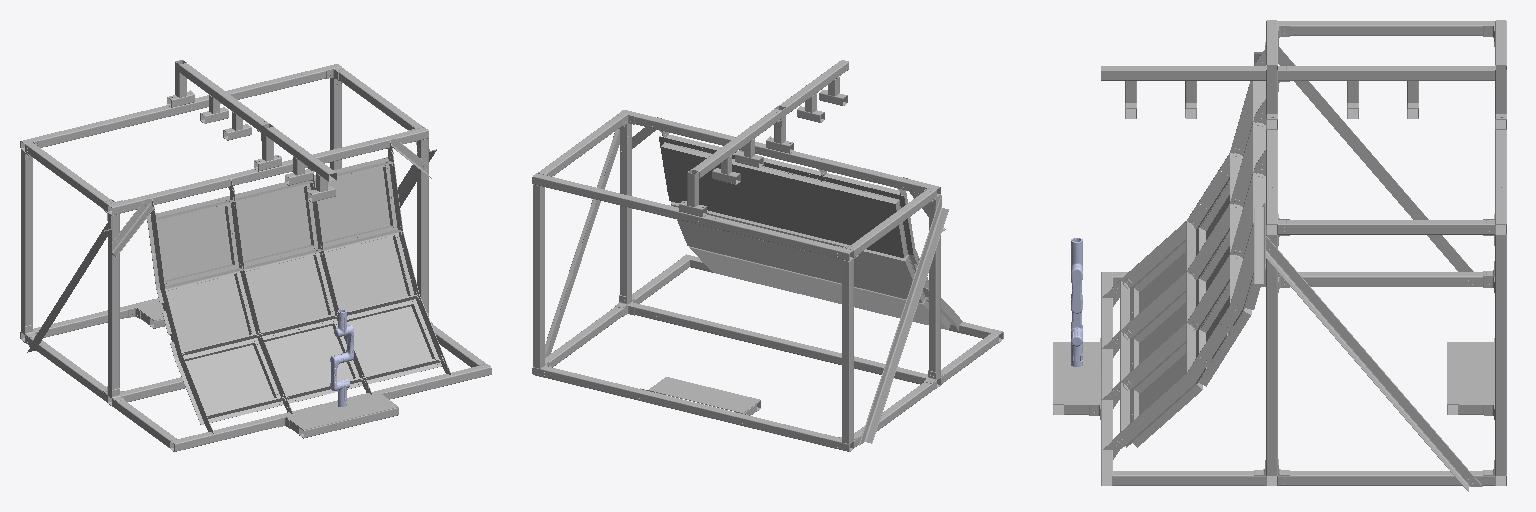
URDF robot description (biped_wj1109):
<?xml version="1.0" encoding="utf-8" ?>
<!-- This URDF was automatically created by SolidWorks to URDF Exporter! Originally created by [author] ([email redacted]) 
     Commit Version: 1.6.0-1-g15f4949  Build Version: 1.6.7594.29634
     For more information, please see http://wiki.ros.org/sw_urdf_exporter -->
<robot name="biped_wj1109">
<!--<link name="world"/> -->
    <link name="dummy">
    </link>
    <link name="base_link">
        
<inertial>
            <origin xyz="-0.00010023 -0.025972 0.049495" rpy="0 0 0" />
            <mass value="1.2781" />
            <inertia ixx="0.0021243" ixy="4.4949E-08" ixz="2.4819E-07" iyy="0.0018554" iyz="0.00018522" izz="0.0031699" />
        </inertial>

        <visual>
            <origin xyz="0 0 0" rpy="0 0 0" />
            <geometry>
                <mesh filename="package://biped_wj1109/meshes/base_link.STL" />
            </geometry>
            <material name="">
                <color rgba="0.75294 0.75294 0.75294 1" />
            </material>
        </visual>
        <collision>
            <origin xyz="0 0 0" rpy="0 0 0" />
            <geometry>
                <mesh filename="package://biped_wj1109/meshes/base_link.STL" />
            </geometry>
        </collision>
    </link>
<gazebo reference="base_link">
        <material>Gazebo/SkyBlue</material>
        <mu1>10</mu1>
        <mu2>10</mu2>
    </gazebo>
    <joint name="dummyjoint" type="fixed">
 		 <parent link="dummy"/>
		 <child link="base_link"/> 
    </joint>
<!--<joint name="fixed" type="fixed">
 		 <parent link="world"/>
		 <child link="base_link"/> 
    </joint> -->
    <link name="A_Link">
        
<inertial>
            <origin xyz="-0.010548 4.7142E-07 0.15036" rpy="0 0 0" />
            <mass value="1.0737" />
            <inertia ixx="0.010166" ixy="-6.3111E-08" ixz="0.0012596" iyy="0.0097797" iyz="-3.9503E-09" izz="0.0020744" />
        </inertial>

        <visual>
            <origin xyz="0 0 0" rpy="0 0 0" />
            <geometry>
                <mesh filename="package://biped_wj1109/meshes/A_Link.STL" />
            </geometry>
            <material name="">
                <color rgba="0.79216 0.81961 0.93333 1" />
            </material>
        </visual>
        <collision>
            <origin xyz="0 0 0" rpy="0 0 0" />
            <geometry>
                <mesh filename="package://biped_wj1109/meshes/A_Link.STL" />
            </geometry>
        </collision>
    </link>
    <joint name="A" type="revolute">
        <origin xyz="0 0 0.075" rpy="0 0 0" />
        <parent link="base_link" />
        <child link="A_Link" />
        <axis xyz="0 0 1" />
        <limit lower="-3.14" upper="3.14" effort="500" velocity="1" />
    </joint>
    <link name="B_Link">
        
<inertial>
            <origin xyz="3.8351E-06 -0.18523 0.010297" rpy="0 0 0" />
            <mass value="1.407" />
            <inertia ixx="0.025564" ixy="3.7004E-08" ixz="-9.8684E-10" iyy="0.002185" iyz="-0.0022725" izz="0.026056" />
        </inertial>

        <visual>
            <origin xyz="0 0 0" rpy="0 0 0" />
            <geometry>
                <mesh filename="package://biped_wj1109/meshes/B_Link.STL" />
            </geometry>
            <material name="">
                <color rgba="0.79216 0.81961 0.93333 1" />
            </material>
        </visual>
        <collision>
            <origin xyz="0 0 0" rpy="0 0 0" />
            <geometry>
                <mesh filename="package://biped_wj1109/meshes/B_Link.STL" />
            </geometry>
        </collision>
    </link>
    <joint name="B" type="revolute">
        <origin xyz="-0.068 0 0.25" rpy="-1.5708 0 1.5708" />
        <parent link="A_Link" />
        <child link="B_Link" />
        <axis xyz="0 0 -1" />
        <limit lower="-2.35" upper="2.35" effort="500" velocity="1" />
    </joint>
    <link name="C_Link">
        
<inertial>
            <origin xyz="3.1223E-06 -0.132 -0.087027" rpy="0 0 0" />
            <mass value="1.4354" />
            <inertia ixx="0.02651" ixy="-1.2337E-07" ixz="-4.0239E-08" iyy="0.0026727" iyz="-0.0028223" izz="0.026658" />
        </inertial>

        <visual>
            <origin xyz="0 0 0" rpy="0 0 0" />
            <geometry>
                <mesh filename="package://biped_wj1109/meshes/C_Link.STL" />
            </geometry>
            <material name="">
                <color rgba="0.79216 0.81961 0.93333 1" />
            </material>
        </visual>
        <collision>
            <origin xyz="0 0 0" rpy="0 0 0" />
            <geometry>
                <mesh filename="package://biped_wj1109/meshes/C_Link.STL" />
            </geometry>
        </collision>
    </link>
    <joint name="C" type="revolute">
        <origin xyz="0 -0.32 -0.056" rpy="0 0 0" />
        <parent link="B_Link" />
        <child link="C_Link" />
        <axis xyz="0 0 1" />
        <limit lower="-2.35" upper="2.35" effort="500" velocity="1" />
    </joint>
    <link name="D_Link">
        
<inertial>
            <origin xyz="4.7142E-07 -0.099642 0.057452" rpy="0 0 0" />
            <mass value="1.0737" />
            <inertia ixx="0.0097797" ixy="-3.9503E-09" ixz="-6.3111E-08" iyy="0.0020744" iyz="0.0012596" izz="0.010166" />
        </inertial>

        <visual>
            <origin xyz="0 0 0" rpy="0 0 0" />
            <geometry>
                <mesh filename="package://biped_wj1109/meshes/D_Link.STL" />
            </geometry>
            <material name="">
                <color rgba="0.79216 0.81961 0.93333 1" />
            </material>
        </visual>
        <collision>
            <origin xyz="0 0 0" rpy="0 0 0" />
            <geometry>
                <mesh filename="package://biped_wj1109/meshes/D_Link.STL" />
            </geometry>
        </collision>
    </link>
    <joint name="D" type="revolute">
        <origin xyz="0 -0.32 -0.08" rpy="0 0 0" />
        <parent link="C_Link" />
        <child link="D_Link" />
        <axis xyz="0 0 1" />
        <limit lower="-2.35" upper="2.35" effort="500" velocity="1" />
    </joint>
    <link name="E_Link">
        
<inertial>
            <origin xyz="1.9372E-05 -0.025979 -0.049495" rpy="0 0 0" />
            <mass value="1.2781" />
            <inertia ixx="0.0021241" ixy="6.5701E-07" ixz="-3.0095E-08" iyy="0.0018555" iyz="-0.00018525" izz="0.0031699" />
        </inertial>

        <visual>
            <origin xyz="0 0 0" rpy="0 0 0" />
            <geometry>
                <mesh filename="package://biped_wj1109/meshes/E_Link.STL" />
            </geometry>
            <material name="">
                <color rgba="0.75294 0.75294 0.75294 1" />
            </material>
        </visual>
        <collision>
            <origin xyz="0 0 0" rpy="0 0 0" />
            <geometry>
                <mesh filename="package://biped_wj1109/meshes/E_Link.STL" />
            </geometry>
        </collision>
    </link>
<gazebo reference="E_Link">
        <material>Gazebo/PurpleGlow</material>
        <mu1>10</mu1>
        <mu2>10</mu2>
    </gazebo>
    <joint name="E" type="revolute">
        <origin xyz="0 -0.325 0.068" rpy="1.5708 1.5708 0" />
        <parent link="D_Link" />
        <child link="E_Link" />
        <axis xyz="0 0 -1" />
        <limit lower="-3.14" upper="3.14" effort="500" velocity="1" />
    </joint>
    
<transmission name="trans_A">
        <type>transmission_interface/SimpleTransmission</type>
        <joint name="A">
            <hardwareInterface>hardware_interface/PositionJointInterface</hardwareInterface>
        </joint>
        <actuator name="A_motor">
            <hardwareInterface>hardware_interface/PositionJointInterface</hardwareInterface>
            <mechanicalReduction>1</mechanicalReduction>
        </actuator>
    </transmission>
    <transmission name="trans_B">
        <type>transmission_interface/SimpleTransmission</type>
        <joint name="B">
            <hardwareInterface>hardware_interface/PositionJointInterface</hardwareInterface>
        </joint>
        <actuator name="B_motor">
            <hardwareInterface>hardware_interface/PositionJointInterface</hardwareInterface>
            <mechanicalReduction>1</mechanicalReduction>
        </actuator>
    </transmission>
    <transmission name="trans_C">
        <type>transmission_interface/SimpleTransmission</type>
        <joint name="C">
            <hardwareInterface>hardware_interface/PositionJointInterface</hardwareInterface>
        </joint>
        <actuator name="C_motor">
            <hardwareInterface>hardware_interface/PositionJointInterface</hardwareInterface>
            <mechanicalReduction>1</mechanicalReduction>
        </actuator>
    </transmission>
    <transmission name="trans_D">
        <type>transmission_interface/SimpleTransmission</type>
        <joint name="D">
            <hardwareInterface>hardware_interface/PositionJointInterface</hardwareInterface>
        </joint>
        <actuator name="D_motor">
            <hardwareInterface>hardware_interface/PositionJointInterface</hardwareInterface>
            <mechanicalReduction>1</mechanicalReduction>
        </actuator>
    </transmission>
    <transmission name="trans_E">
        <type>transmission_interface/SimpleTransmission</type>
        <joint name="E">
            <hardwareInterface>hardware_interface/PositionJointInterface</hardwareInterface>
        </joint>
        <actuator name="E_motor">
            <hardwareInterface>hardware_interface/PositionJointInterface</hardwareInterface>
            <mechanicalReduction>1</mechanicalReduction>
        </actuator>
    </transmission>
    <gazebo>
        <plugin name="gazebo_ros_control" filename="libgazebo_ros_control.so">
            <robotNamespace>/</robotNamespace>
        </plugin>
    </gazebo>
</robot>

--- Render facts (derived) ---
The picture shows the robot from 3 angles, left to right: view 1: azimuth 30°, elevation 25°; view 2: azimuth 150°, elevation 25°; view 3: azimuth 270°, elevation 25°; orthographic projection.
Model biped_wj1109 with 7 links and 6 joints (5 revolute, 1 fixed), rooted at dummy, posed every joint at zero.
Visible links, largest first — view 1: base_link; view 2: base_link; view 3: base_link.
Link boxes in pixels (left/top/right/bottom): base_link: left=20, top=60, right=491, bottom=451; base_link: left=532, top=60, right=1003, bottom=451; base_link: left=1053, top=20, right=1506, bottom=491.
Bounding box of the posed robot: 4.2 × 3.77 × 2.9 m (x, y, z).
5 mesh visuals loaded from 6 distinct referenced files (5 binary STL); not drawn: 1 (reference not matched to a file when rendering).
